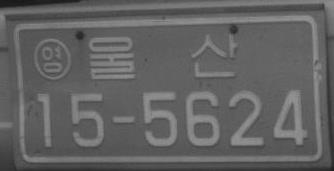-: (110, 113, 136, 127)
1: (31, 92, 61, 148)
2: (228, 89, 264, 148)
4: (272, 88, 308, 146)
5: (142, 89, 178, 147), (69, 91, 105, 148)
6: (184, 90, 221, 147)
영: (33, 36, 72, 82)
울산_D: (88, 32, 239, 80)
